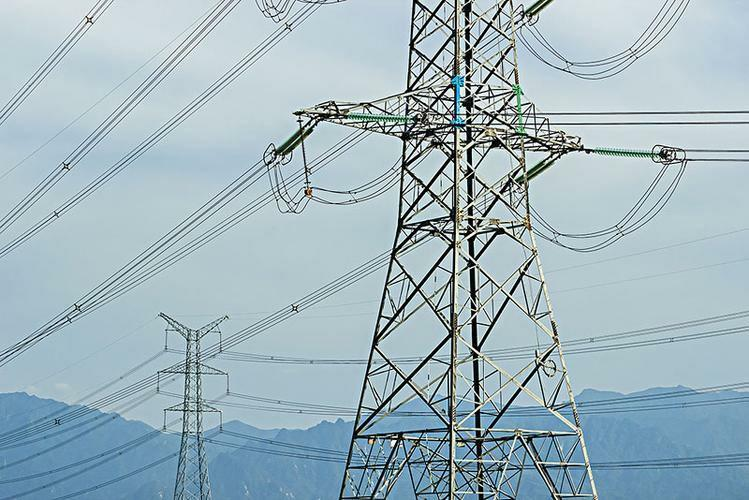power_tower: (293, 0, 646, 500), (153, 300, 239, 500)
